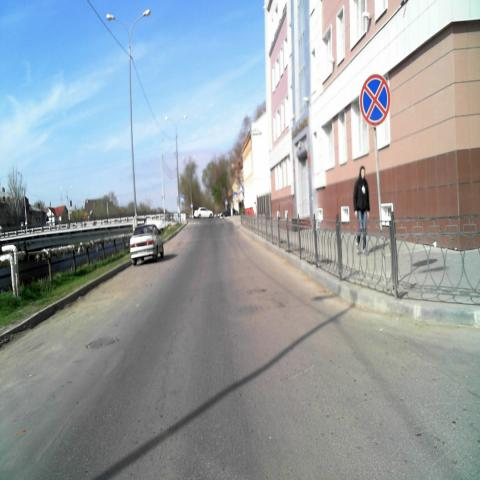3_27: (358, 73, 390, 126)
